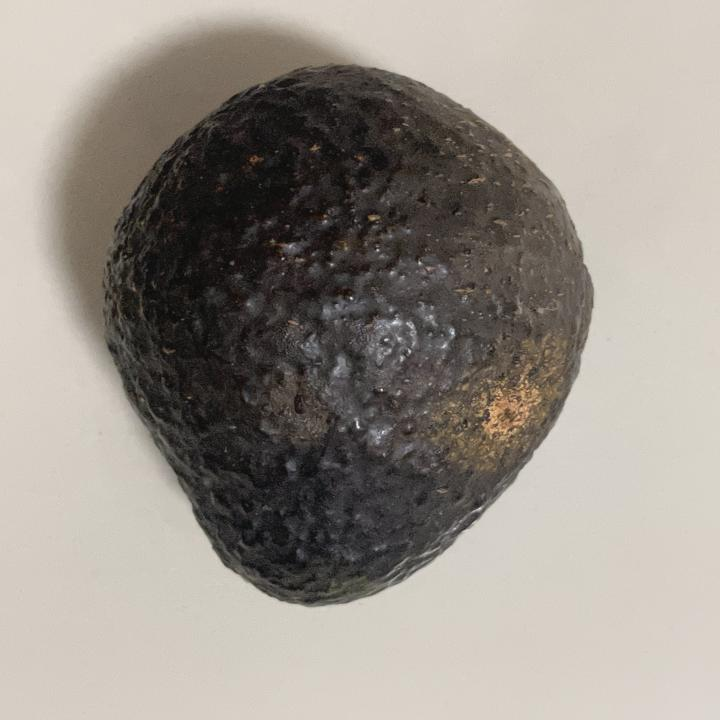Level3: (93, 59, 603, 611)
